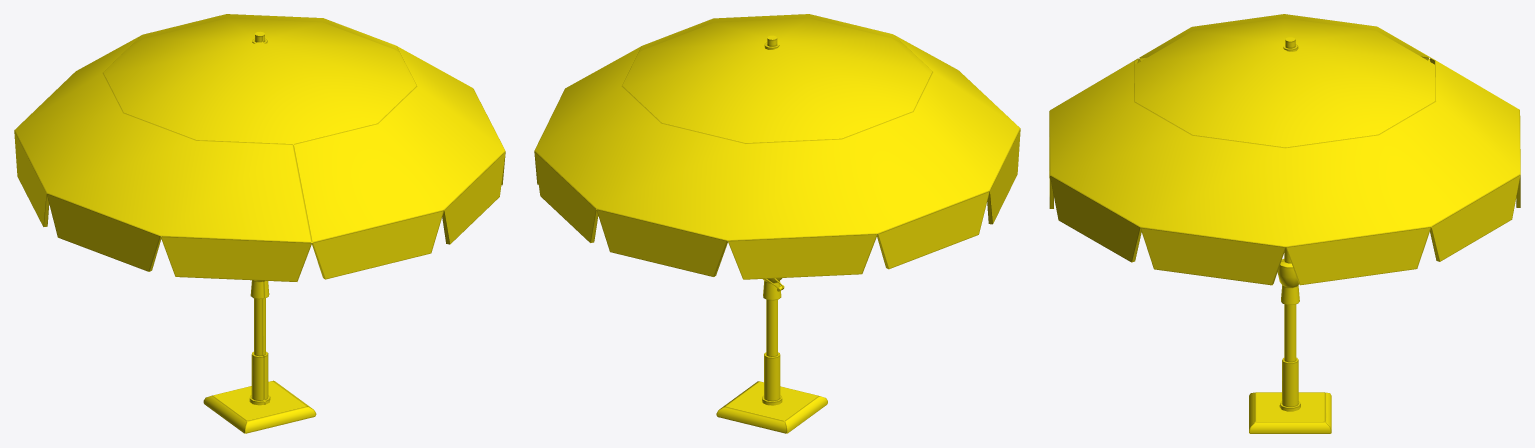
Rendered from Prop_Sombrilla.fbx.
3 renders of one model, left to right at view 1: azimuth 30°, elevation 25°; view 2: azimuth 150°, elevation 25°; view 3: azimuth 270°, elevation 25°, orthographic.
Visible parts, largest first — view 1: Cube.107; view 2: Cube.107; view 3: Cube.107.
Boxes of the visible parts, x1,y1,x2,y2 form: Cube.107: (14,14,505,433); Cube.107: (534,14,1020,433); Cube.107: (1049,14,1520,433).
Bounding box in the file's own units: 3.74 × 3.15 × 3.57.
Materials: 1 (1 with a texture image).
